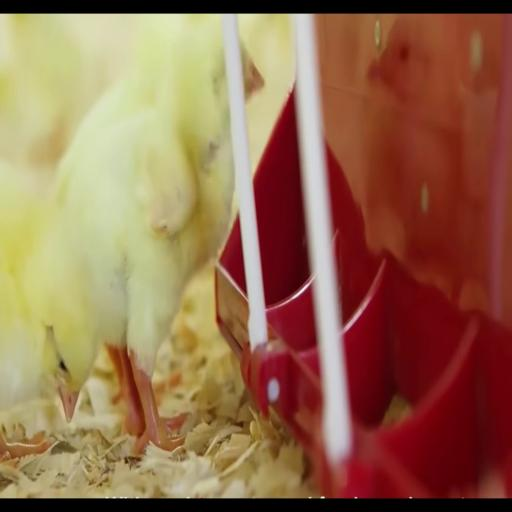chick: (56, 15, 234, 453), (0, 162, 97, 420)
